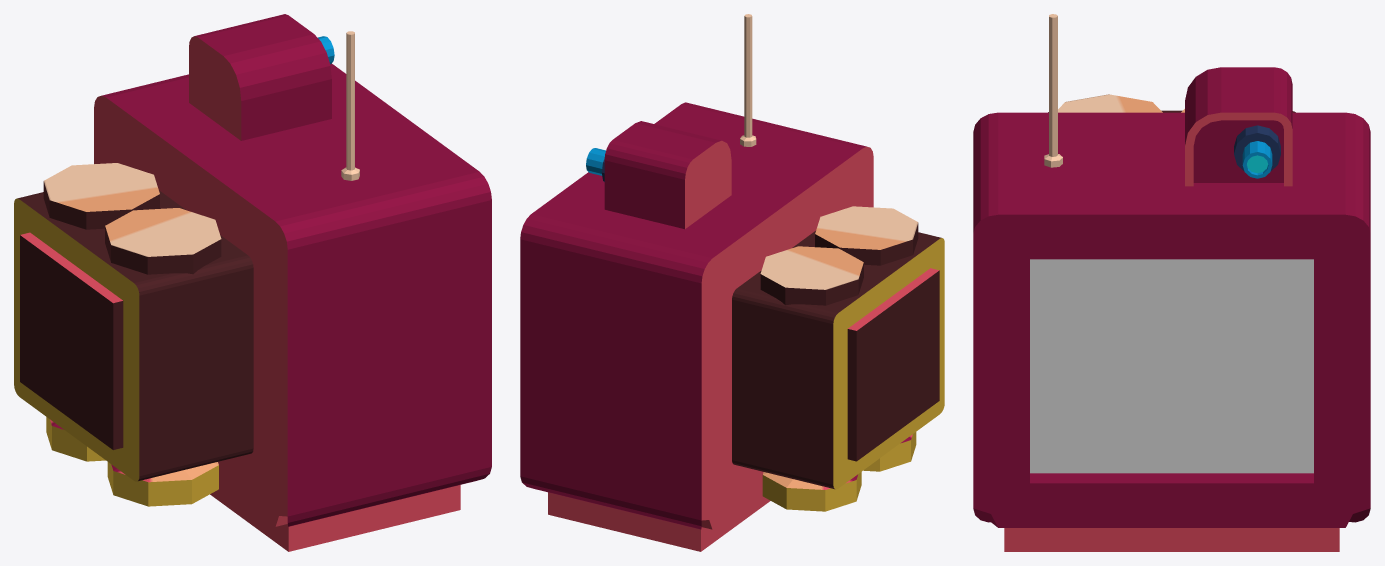
Rendered from Companion.fbx.
3 renders of one model, left to right at view 1: azimuth 30°, elevation 25°; view 2: azimuth 150°, elevation 25°; view 3: azimuth 270°, elevation 25°, orthographic. The views are drawn at different scales.
Parts seen in each view (by area): view 1: Cube, Cylinder.002, Cube.001, Cylinder.003; view 2: Cube, Cylinder.002, Cube.001, Cylinder.003; view 3: Cube, Cube.001, Cylinder.003, Cylinder.002, Cylinder, Cylinder.001.
Part boxes in pixels (<box>): Cube: <box>14,63,491,551</box>; Cylinder.002: <box>43,163,221,506</box>; Cube.001: <box>189,14,331,140</box>; Cylinder.003: <box>341,31,359,180</box>; Cube: <box>520,102,944,551</box>; Cylinder.002: <box>760,206,918,511</box>; Cube.001: <box>604,121,731,229</box>; Cylinder.003: <box>740,14,756,146</box>; Cube: <box>973,110,1370,551</box>; Cube.001: <box>1185,67,1292,186</box>; Cylinder.003: <box>1044,14,1062,167</box>; Cylinder.002: <box>1058,94,1184,112</box>; Cylinder: <box>1234,125,1280,171</box>; Cylinder.001: <box>1242,141,1272,178</box>.
Size of the model in its own units: 225 by 315 by 230.
Materials: 2 (1 with a texture image).
